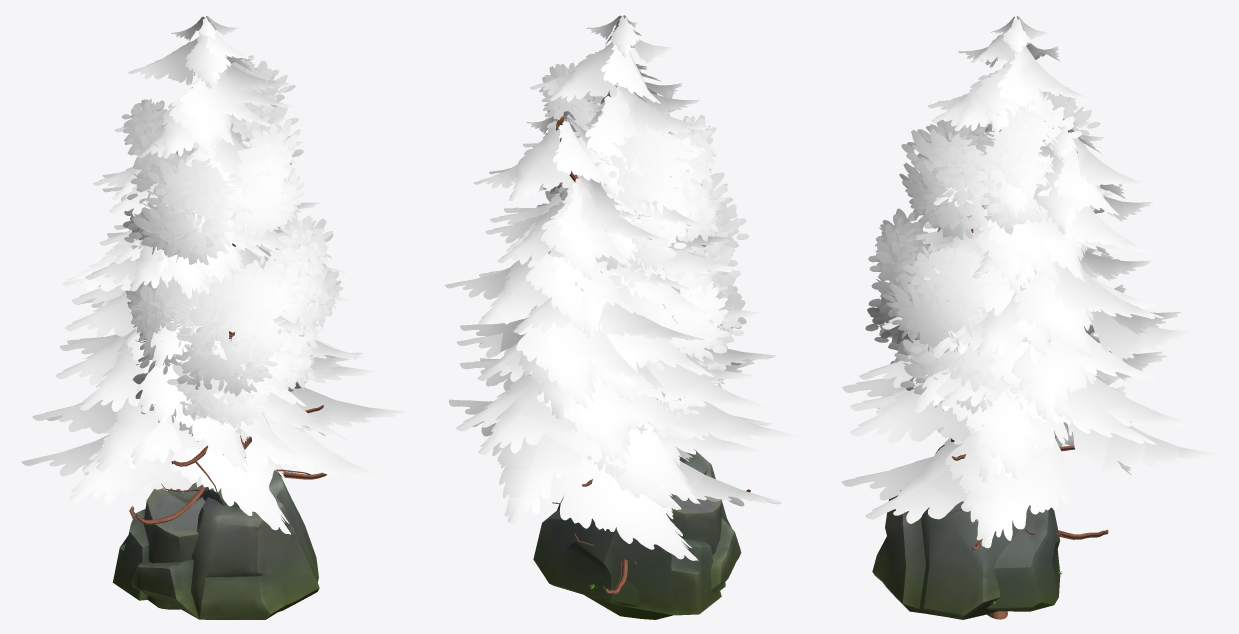
The model's file is nature.glb.
The picture shows the model from 3 angles, left to right: view 1: azimuth 30°, elevation 25°; view 2: azimuth 150°, elevation 25°; view 3: azimuth 270°, elevation 25°; orthographic projection. The views are drawn at different scales.
Parts seen in each view (by area): view 1: CommonTree_3, Pine_4, Pine_5, Rock_Medium_1, CommonTree_5, Rock_Medium_2; view 2: Pine_5, Pine_4, CommonTree_3, Rock_Medium_2, CommonTree_5, Rock_Medium_1; view 3: Pine_5, Pine_4, CommonTree_3, Rock_Medium_1, Rock_Medium_2, CommonTree_5.
Boxes of the visible parts, left/top/right/bottom form: CommonTree_3: left=121, top=56, right=343, bottom=457; Pine_4: left=32, top=16, right=364, bottom=524; Pine_5: left=21, top=115, right=404, bottom=534; Rock_Medium_1: left=130, top=470, right=319, bottom=619; CommonTree_5: left=124, top=237, right=324, bottom=441; Rock_Medium_2: left=112, top=482, right=205, bottom=609; Pine_5: left=445, top=111, right=781, bottom=560; Pine_4: left=456, top=15, right=798, bottom=594; CommonTree_3: left=537, top=62, right=749, bottom=400; Rock_Medium_2: left=533, top=494, right=725, bottom=615; CommonTree_5: left=575, top=247, right=744, bottom=434; Rock_Medium_1: left=557, top=449, right=741, bottom=619; Pine_5: left=841, top=125, right=1217, bottom=548; Pine_4: left=842, top=16, right=1166, bottom=550; CommonTree_3: left=865, top=87, right=1100, bottom=619; Rock_Medium_1: left=872, top=490, right=1059, bottom=619; Rock_Medium_2: left=987, top=505, right=1060, bottom=611; CommonTree_5: left=874, top=245, right=1101, bottom=613.
Bounding box in the file's own units: 6.42 × 10.27 × 6.22.
10 materials, 10 textured.
